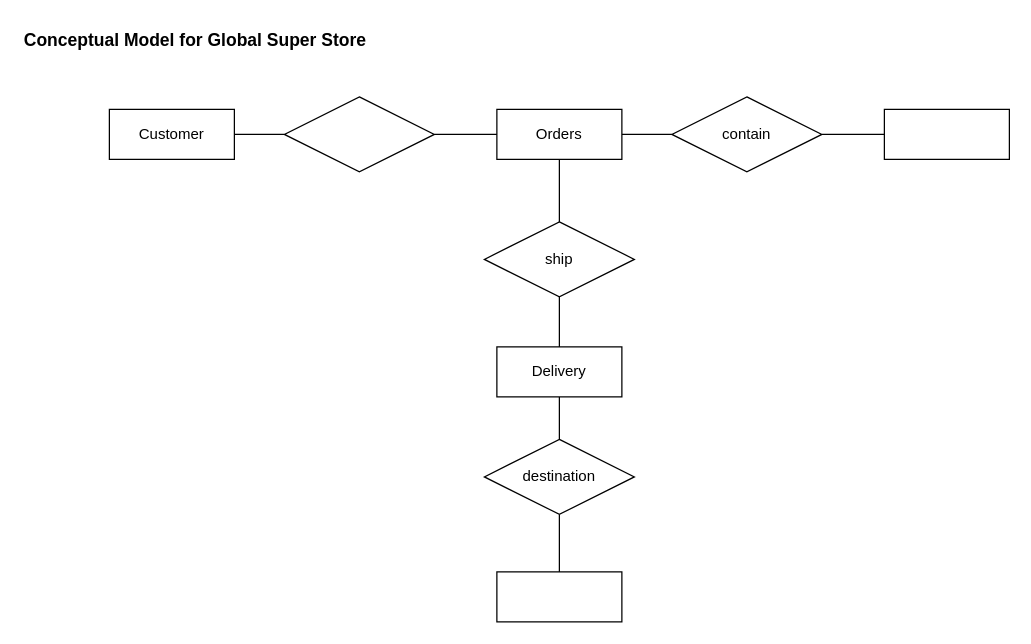
Image size: 1031x644. Some labels were removed from this diagram. The shapes that lost their labels are listed below. From the top down, each one's box as (x1, y1, x2, y2) in pixels, then its label:
(283, 96, 434, 172): place
(883, 108, 1009, 159): Product
(496, 571, 622, 622): Location
